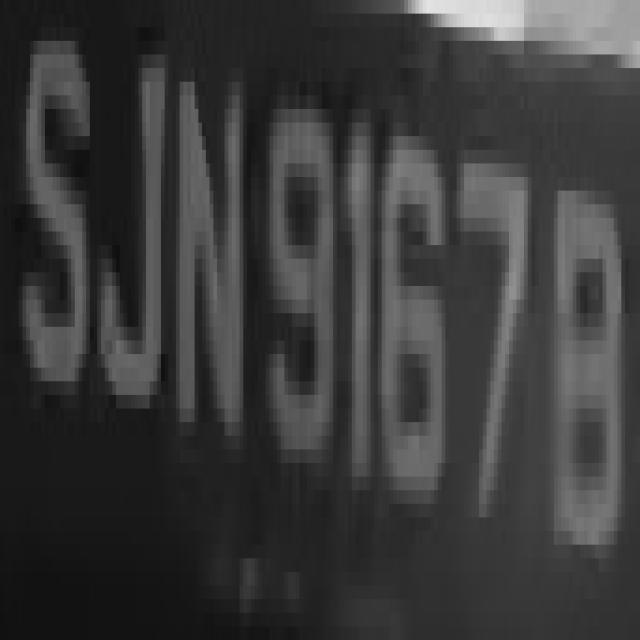1: (344, 41, 390, 545)
6: (374, 109, 446, 531)
7: (442, 96, 528, 558)
9: (258, 68, 341, 504)
B: (546, 136, 629, 586)
J: (90, 27, 168, 409)
N: (161, 27, 251, 490)
S: (15, 0, 97, 422)
